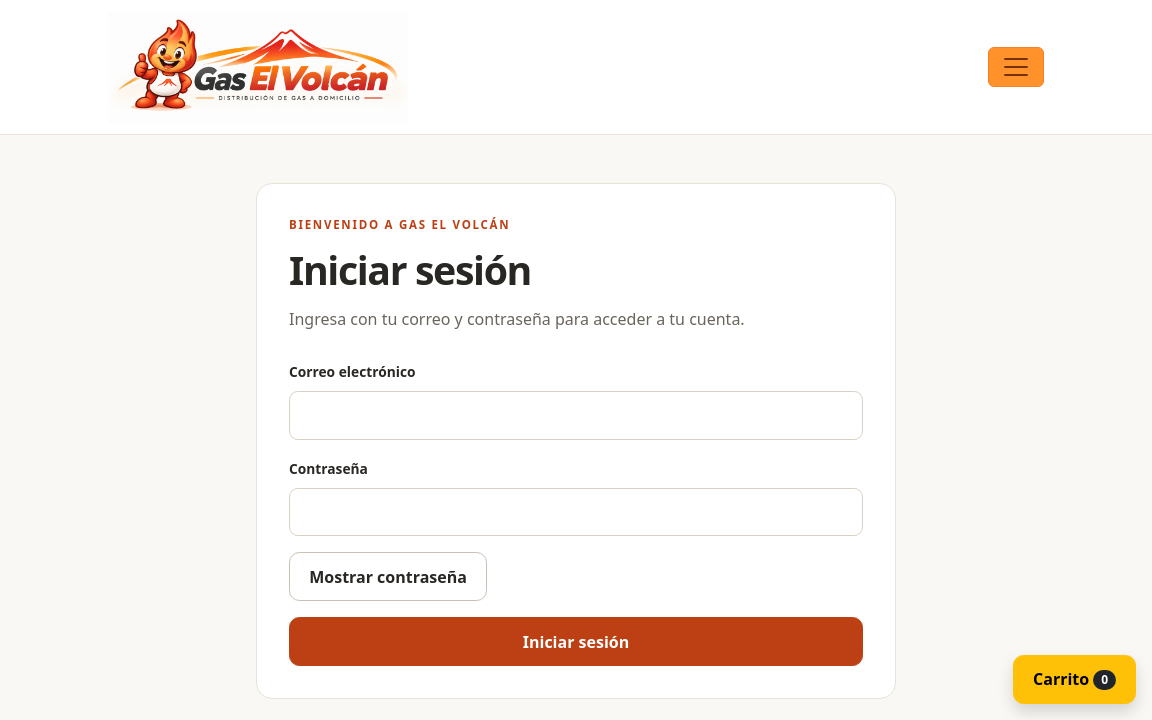
it: inicia sesión como administrador y redirige a admin
The width and height of the screenshot is (1152, 720).
Type "admin@example.com" into the field labelled "Correo electrónico" at (576, 416), box [289,391,863,440]
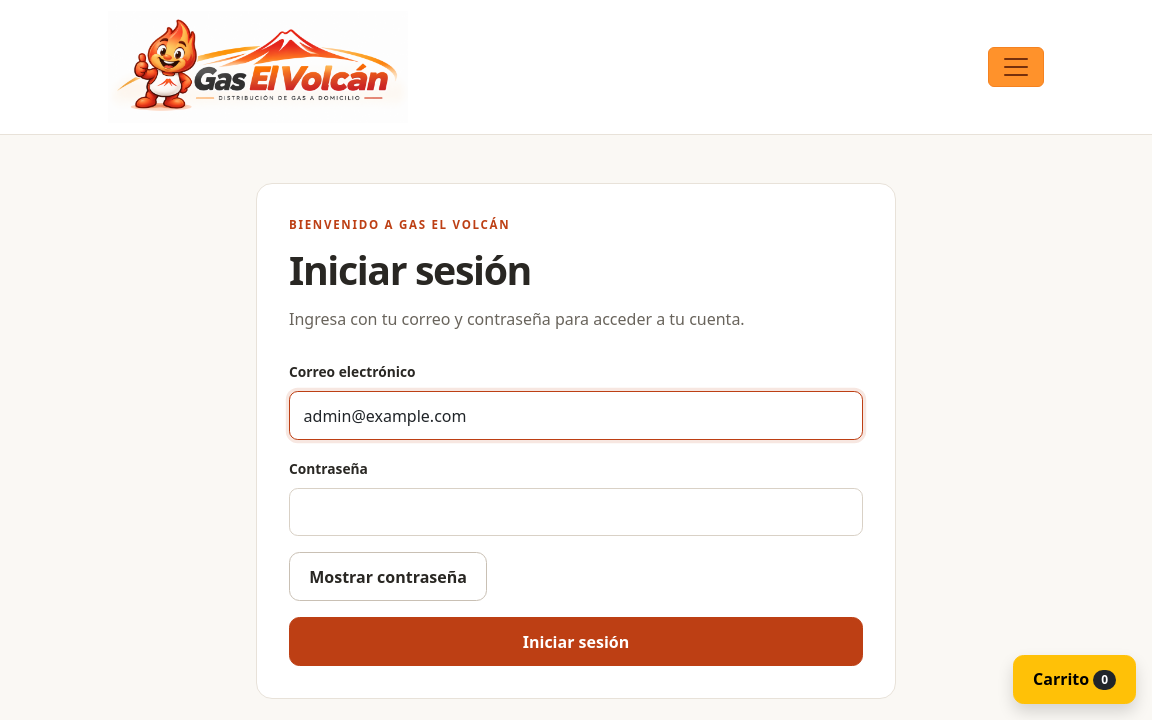
Type "VolcanDemo123!" into the password field labelled "Contraseña" at (576, 512), box [289,488,863,536]
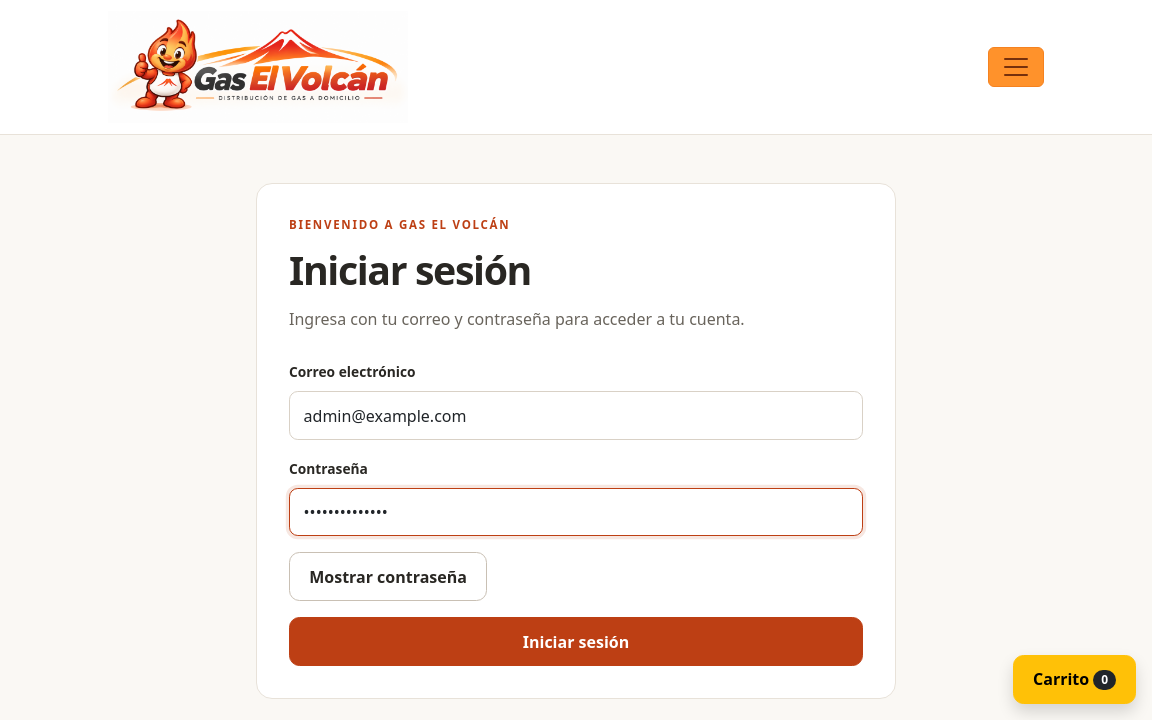
Click the button "Iniciar sesión" at (576, 642), box [289,617,863,666]
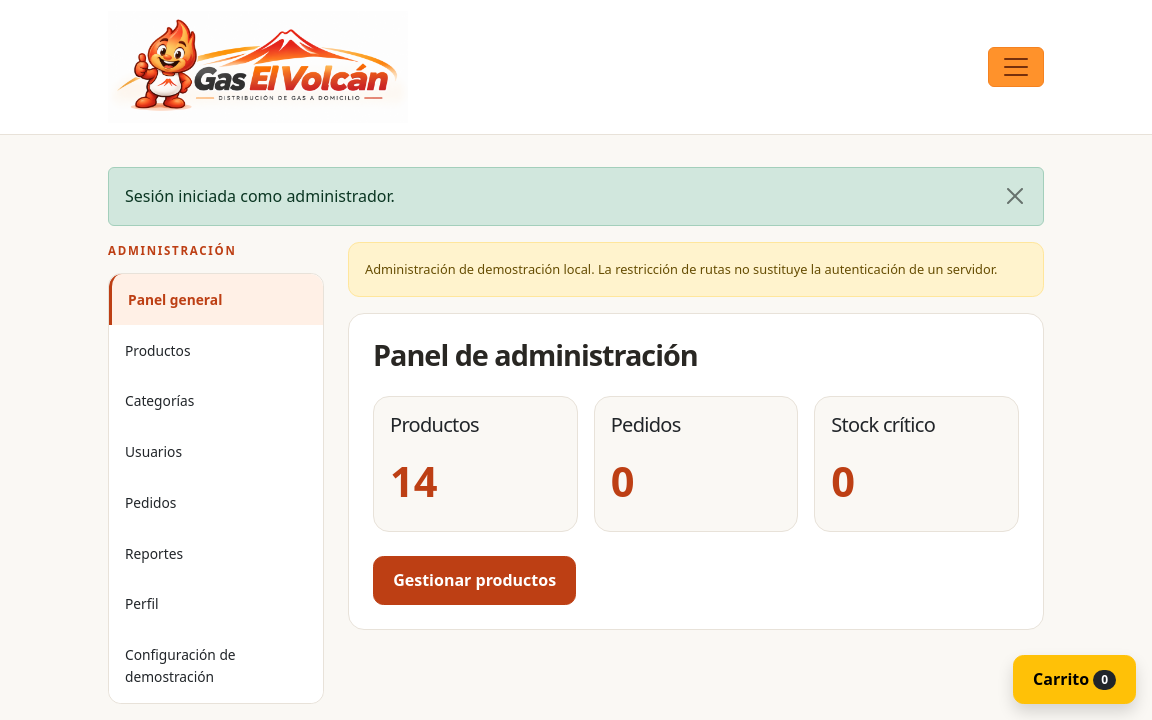
Result: the text "Sesión iniciada como administrador." is shown at [125,184,395,209]
